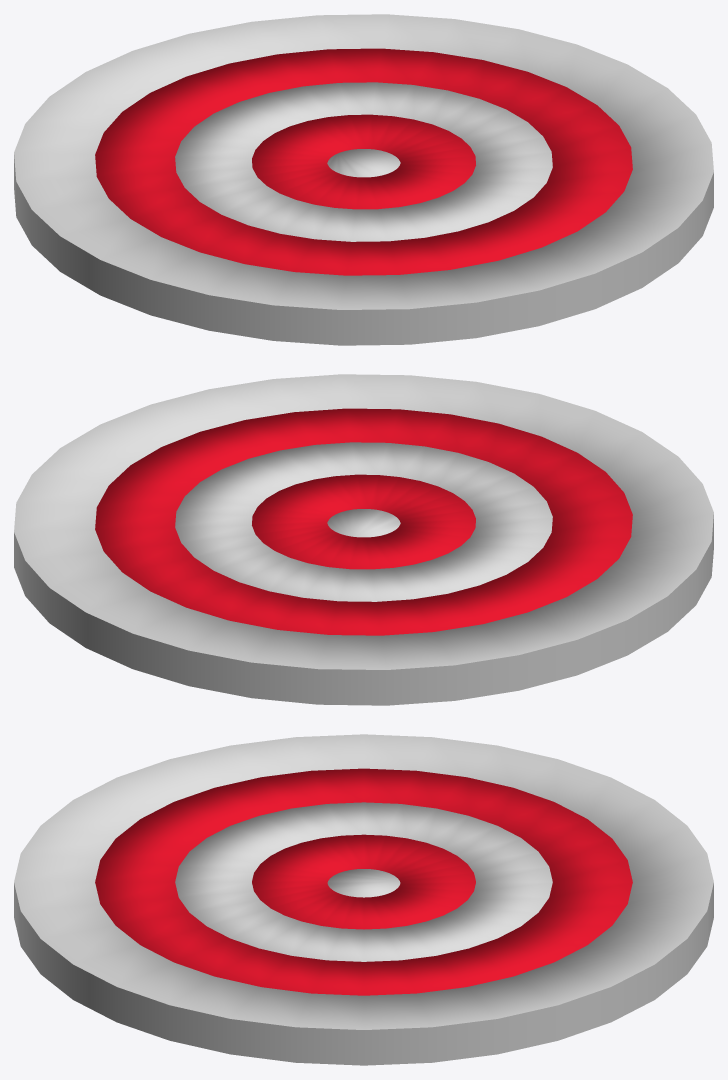
The model's file is broken.fbx.
3 renders of one model, top to bottom at view 1: azimuth 30°, elevation 25°; view 2: azimuth 150°, elevation 25°; view 3: azimuth 270°, elevation 25°, orthographic.
Parts seen in each view (by area): view 1: Circle.005, Circle.004, Circle.003, Circle.002, Circle.001; view 2: Circle.005, Circle.004, Circle.003, Circle.002, Circle.001; view 3: Circle.005, Circle.004, Circle.003, Circle.002, Circle.001.
Boxes of the visible parts, x1,y1,x2,y2 form: Circle.005: (14,14,713,345); Circle.004: (95,48,632,275); Circle.003: (175,82,552,241); Circle.002: (252,114,475,209); Circle.001: (327,149,400,177); Circle.005: (14,374,713,705); Circle.004: (95,408,632,635); Circle.003: (175,442,552,601); Circle.002: (252,474,475,569); Circle.001: (327,509,400,537); Circle.005: (14,734,713,1065); Circle.004: (95,768,632,995); Circle.003: (175,802,552,961); Circle.002: (252,834,475,929); Circle.001: (327,869,400,897).
Bounding box in the file's own units: 201 × 11.39 × 201.
